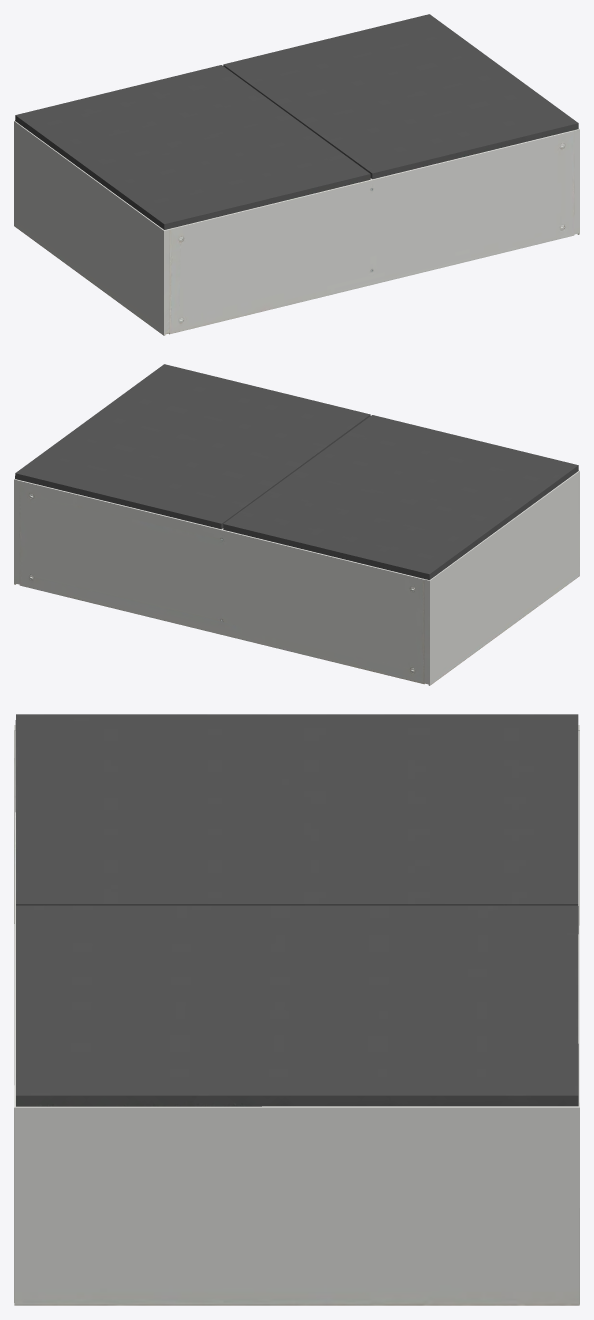
Rendered from knoxhult-armario-de-pared-con-puertas-gris-oscuro.glb.
The picture shows the model from 3 angles, top to bottom: view 1: azimuth 30°, elevation 25°; view 2: azimuth 150°, elevation 25°; view 3: azimuth 270°, elevation 25°; orthographic projection. The views are drawn at different scales.
Parts seen in each view (by area): view 1: ASY_ART_20588792_S01_NV01, ASY_LPT01_20588792_S01_NV01, ASY_LPT02_20588792_S01_NV01; view 2: ASY_ART_20588792_S01_NV01, ASY_LPT01_20588792_S01_NV01, ASY_LPT02_20588792_S01_NV01; view 3: ASY_ART_20588792_S01_NV01, ASY_LPT02_20588792_S01_NV01, ASY_LPT01_20588792_S01_NV01.
Boxes of the visible parts, x1,y1,x2,y2 form: ASY_ART_20588792_S01_NV01: [14, 121, 579, 335]; ASY_LPT01_20588792_S01_NV01: [15, 65, 370, 229]; ASY_LPT02_20588792_S01_NV01: [223, 14, 578, 179]; ASY_ART_20588792_S01_NV01: [14, 471, 579, 685]; ASY_LPT01_20588792_S01_NV01: [223, 415, 578, 579]; ASY_LPT02_20588792_S01_NV01: [15, 364, 370, 529]; ASY_ART_20588792_S01_NV01: [14, 725, 579, 1305]; ASY_LPT02_20588792_S01_NV01: [16, 905, 578, 1106]; ASY_LPT01_20588792_S01_NV01: [15, 714, 578, 905].
Bounding box in the file's own units: 1.2 × 0.3067 × 0.7502.
4 materials, 3 textured.
